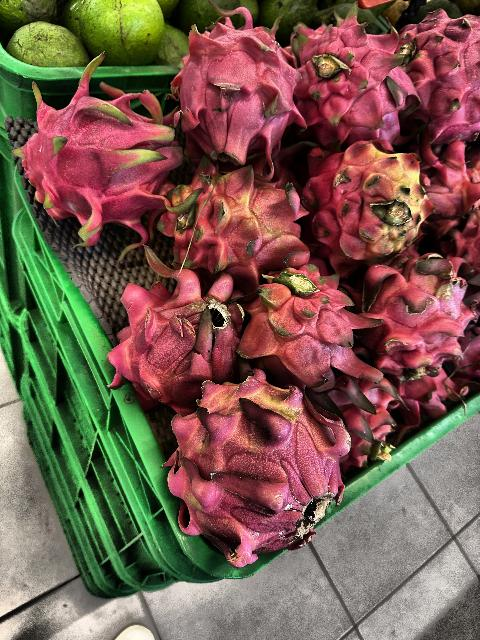buah-naga-belum-matang: (170, 375, 340, 553), (290, 132, 426, 252), (158, 162, 304, 270)
buah-naga-matang: (9, 70, 184, 222), (228, 255, 378, 398), (104, 254, 240, 398), (178, 20, 300, 158), (296, 15, 416, 144), (361, 234, 471, 374), (400, 3, 480, 141), (321, 357, 399, 467), (414, 139, 480, 237)
